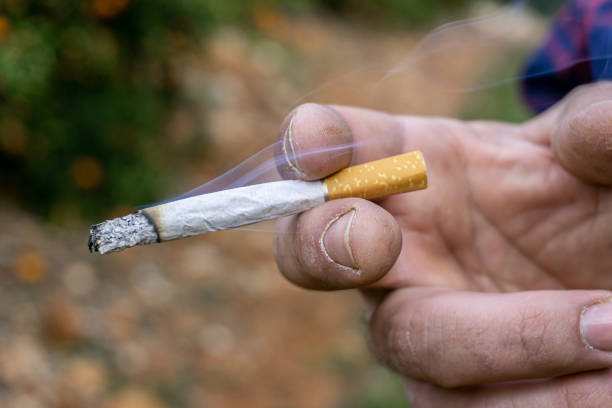cigarette: (88, 150, 428, 257)
